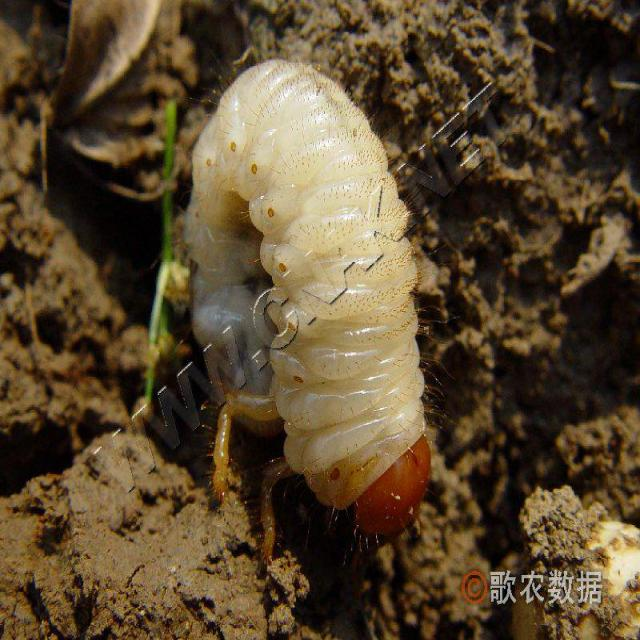Grub-Adult-: (182, 50, 438, 544)
